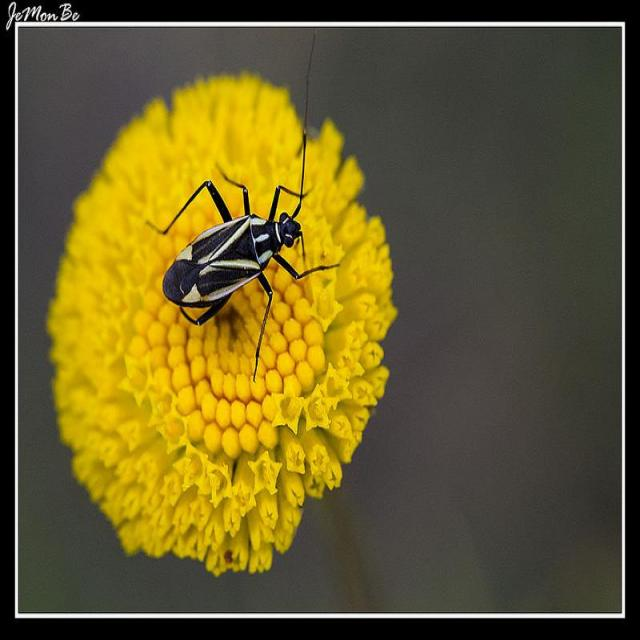Miridae-Adult-: (142, 61, 345, 388)
